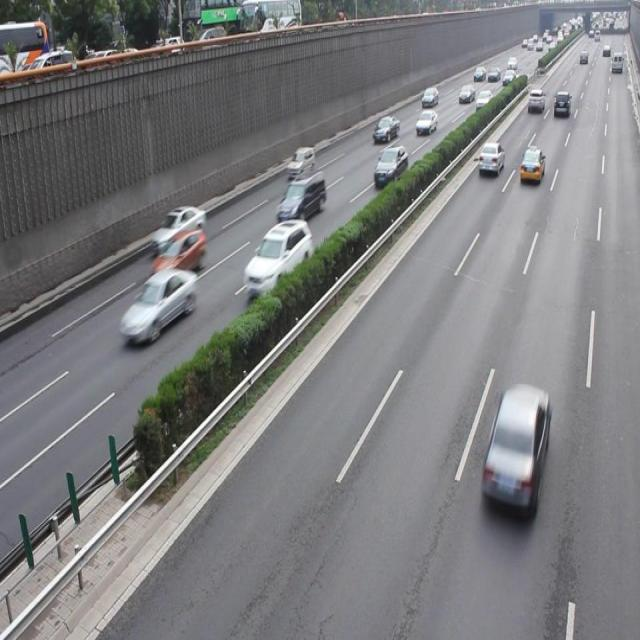car: (481, 380, 548, 514), (119, 267, 198, 345), (243, 218, 312, 294), (150, 226, 207, 282), (150, 205, 205, 250), (372, 144, 407, 185), (476, 141, 503, 177), (285, 144, 313, 178), (519, 148, 544, 184)
truck: (276, 168, 326, 223)
